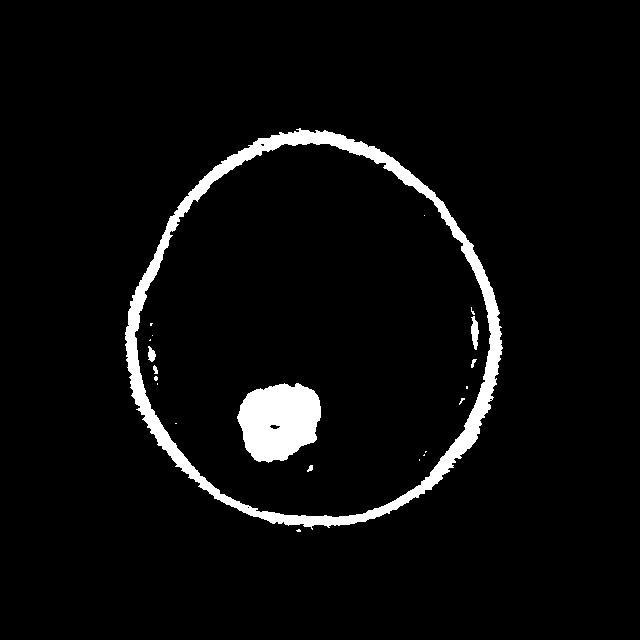Brain-Tumor: (229, 368, 337, 480)
